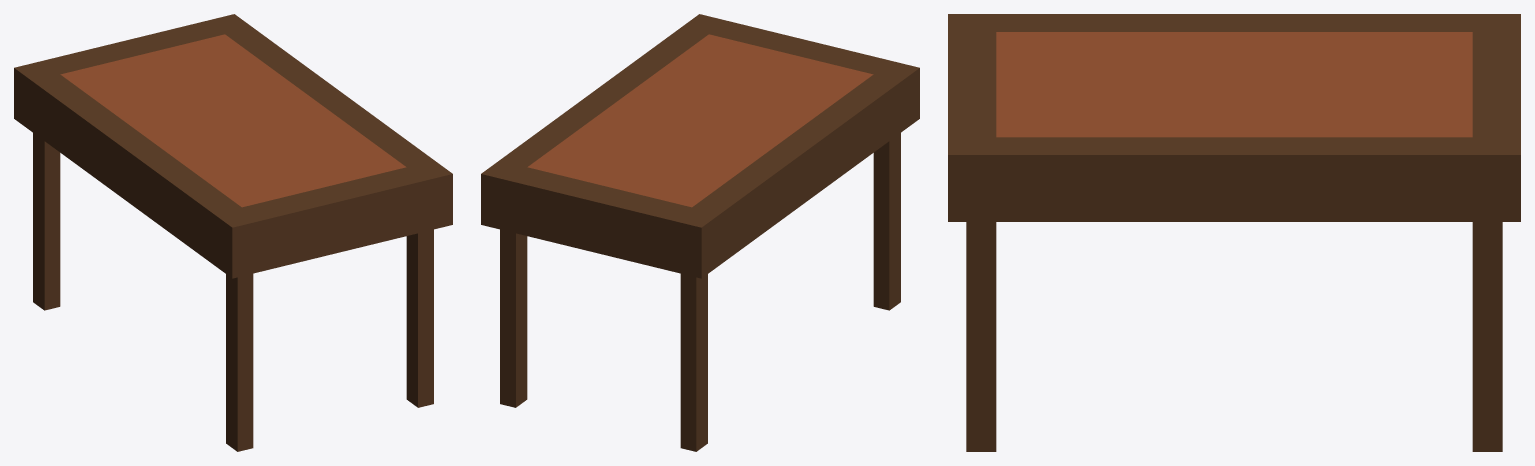
Rendered from Table.fbx.
The picture shows the model from 3 angles, left to right: view 1: azimuth 30°, elevation 25°; view 2: azimuth 150°, elevation 25°; view 3: azimuth 270°, elevation 25°; orthographic projection. The views are drawn at different scales.
Parts seen in each view (by area): view 1: Table; view 2: Table; view 3: Table.
Boxes of the visible parts, x1,y1,x2,y2 form: Table: [14, 14, 452, 451]; Table: [481, 14, 919, 451]; Table: [948, 14, 1520, 451].
Size of the model in its own units: 85.76 by 86.32 by 147.
